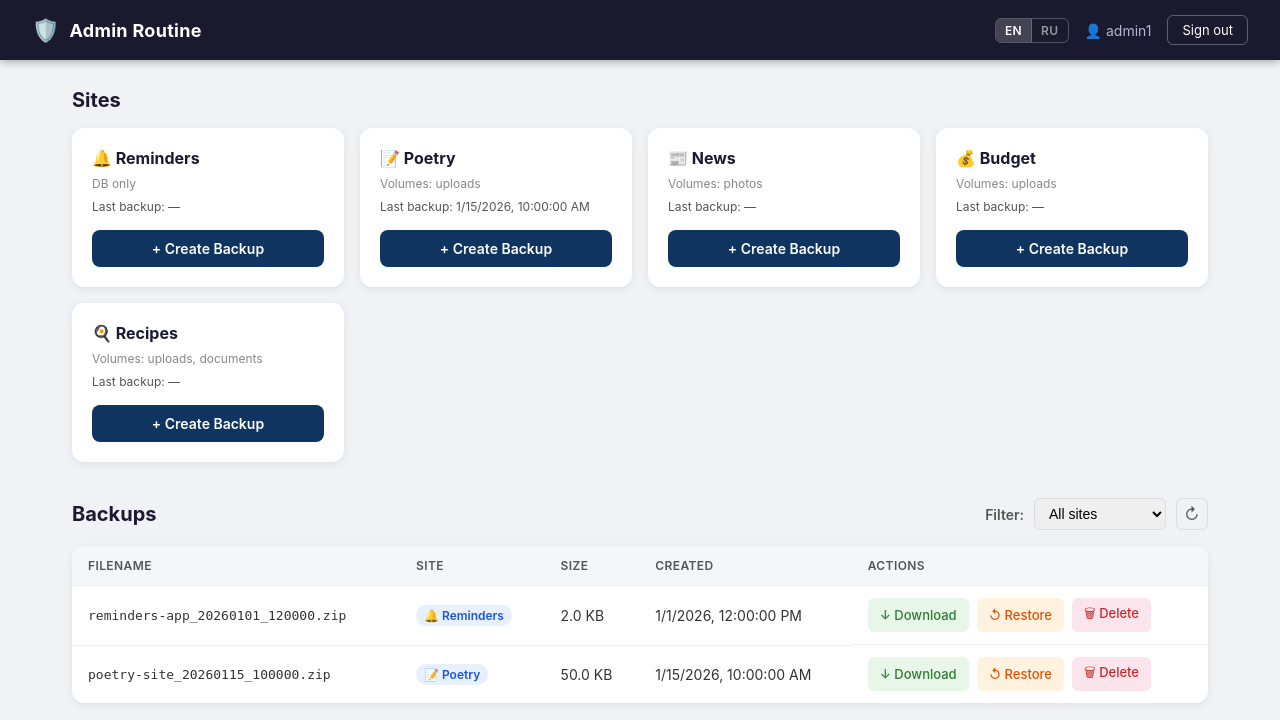
Test: DashboardPage › filters backup list by selected site
The image size is (1280, 720).
Select "🔔 Reminders" in the dropdown labelled "Filter:" at [1100, 514], box [1034,498,1166,530]
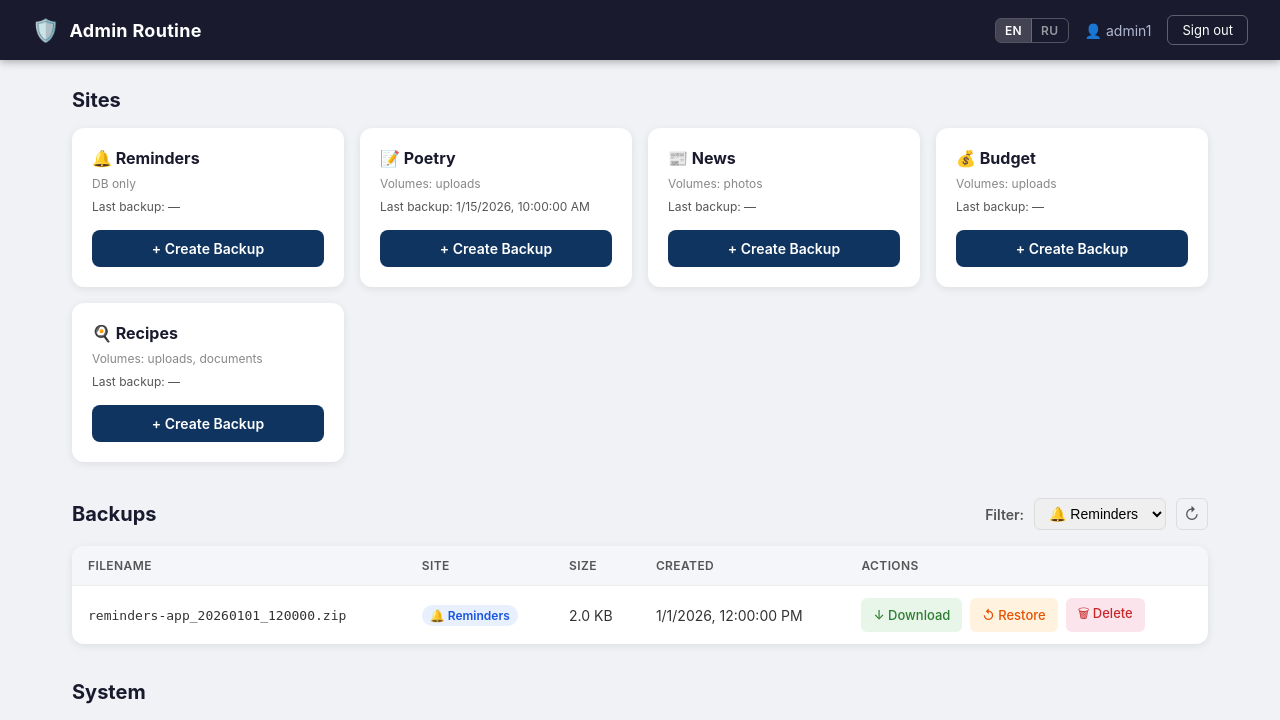
expect the text "reminders-app_20260101_120000.zip" is shown: met, box [72,586,406,644]
expect the text "poetry-site_20260115_100000.zip" is gone: met
